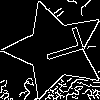L: (30, 25, 85, 66)
